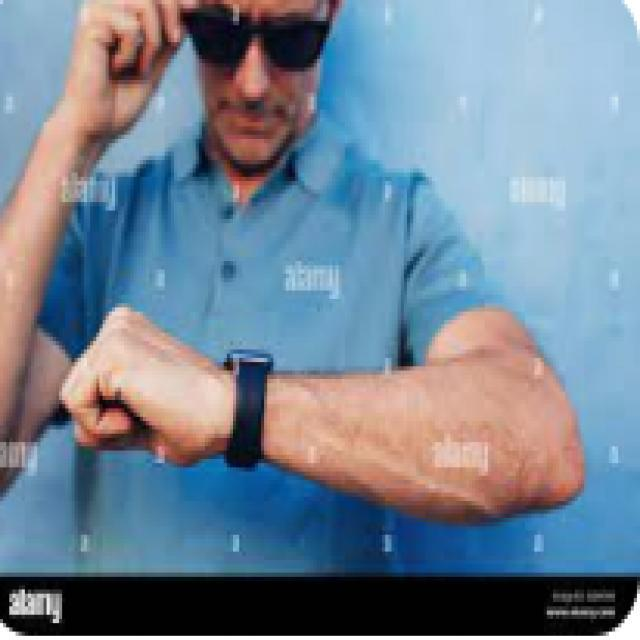Watch: (224, 346, 272, 466)
